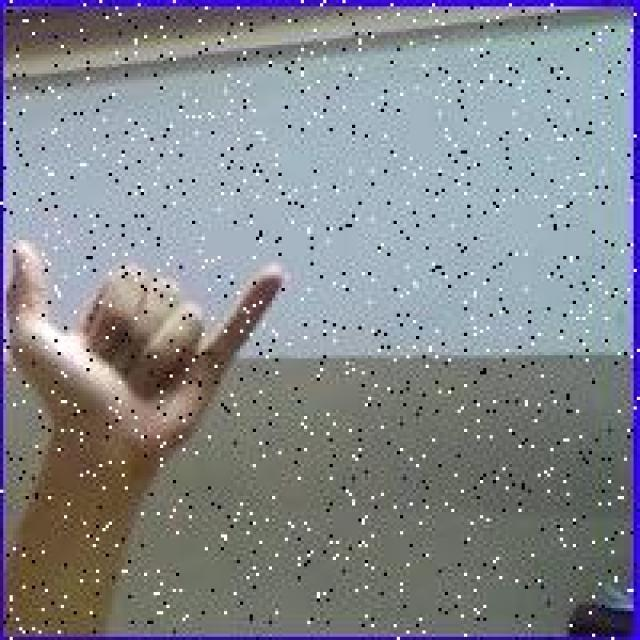Y: (5, 240, 286, 474)
